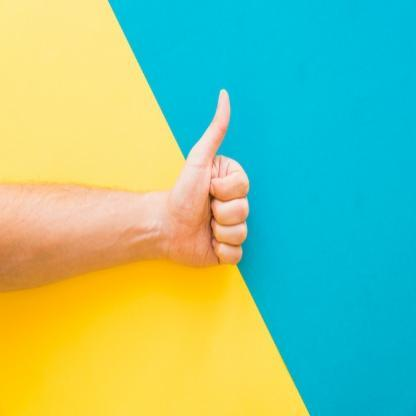thumb_up: (169, 82, 254, 272)
